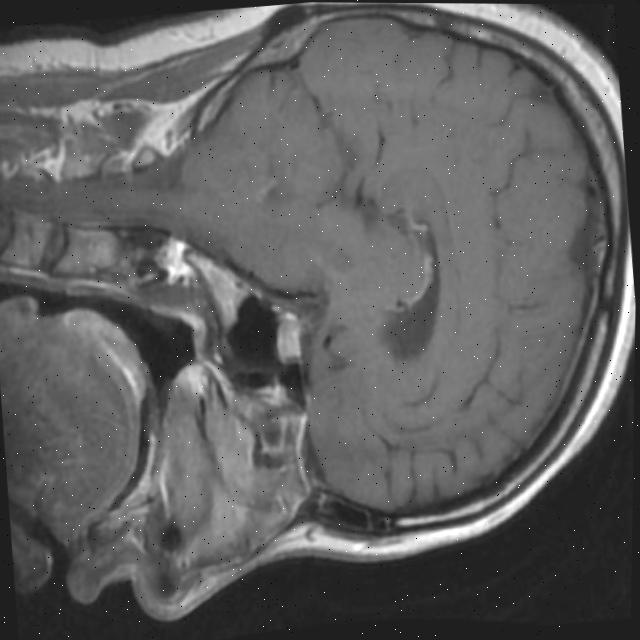Pituitary: (272, 317, 304, 367)
